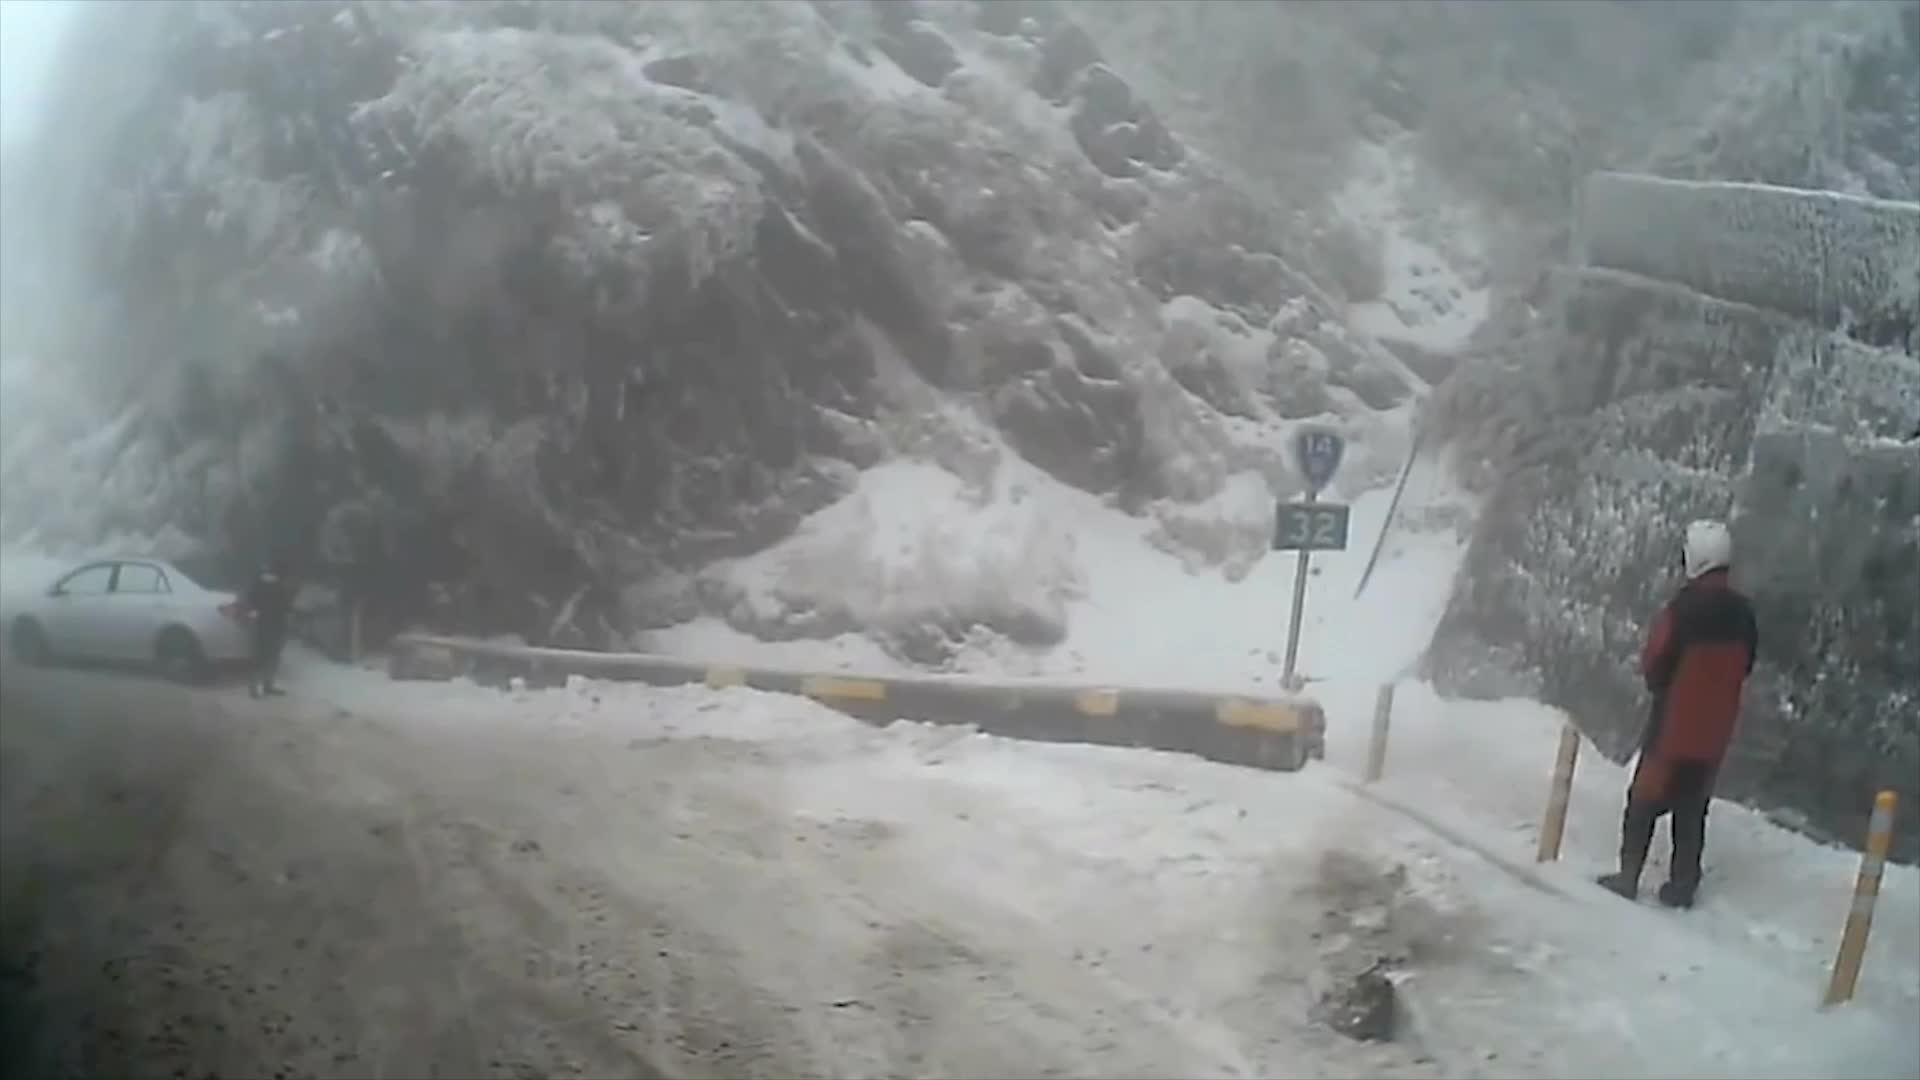pedestrian: (1607, 518, 1759, 907), (243, 565, 293, 698)
vehicle: (0, 550, 265, 682)
